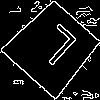L: (27, 22, 79, 75)
